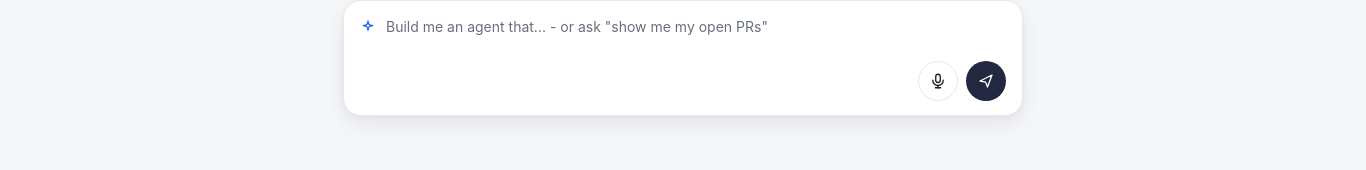
Test: CommandBar - hero mode (empty transcript) › records a failed command as an error entry and still leaves the hero
The image size is (1366, 170).
Type "show me my open PRs" into the field with placeholder "Build me an agent that... - or ask \"show me my open PRs\"" at [696, 27], box [386,17,1006,37]
Then press Enter
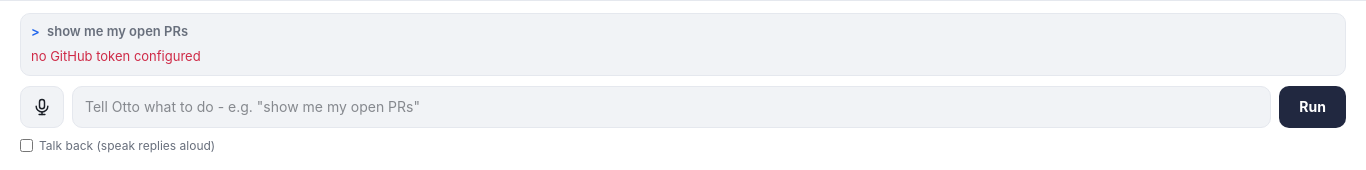
Result: the text "no GitHub token configured" is shown at [31,48,201,64]
